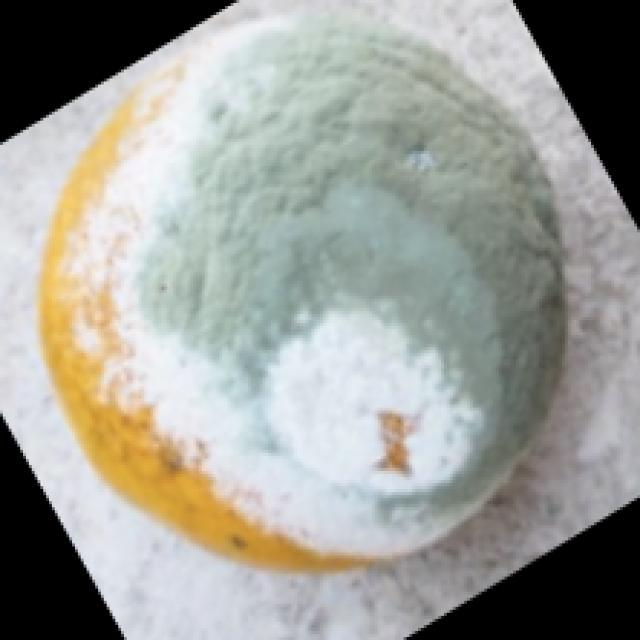sangat-busuk: (38, 20, 563, 568)
